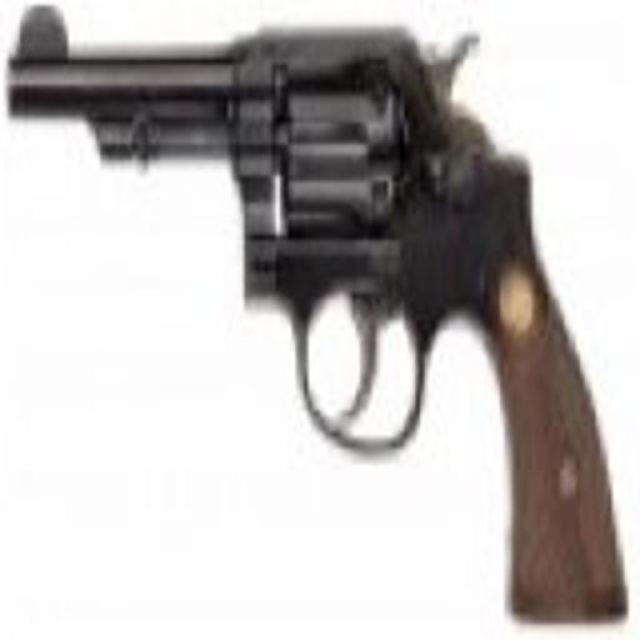pistol: (24, 5, 620, 634)
